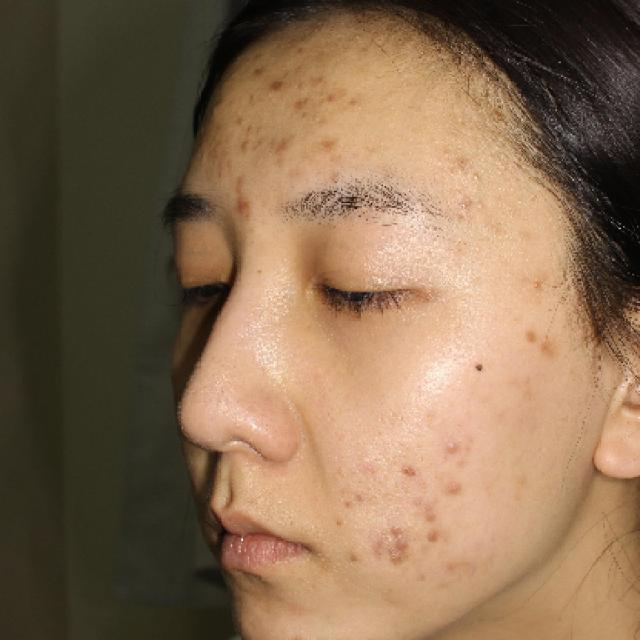Acne: (261, 74, 292, 100), (438, 431, 468, 457), (442, 472, 468, 502), (386, 514, 411, 538), (390, 533, 413, 557), (342, 544, 366, 567), (418, 507, 444, 526), (422, 524, 444, 544)
Blackheads: (462, 349, 496, 380)
Whiteheads: (469, 170, 484, 183)
